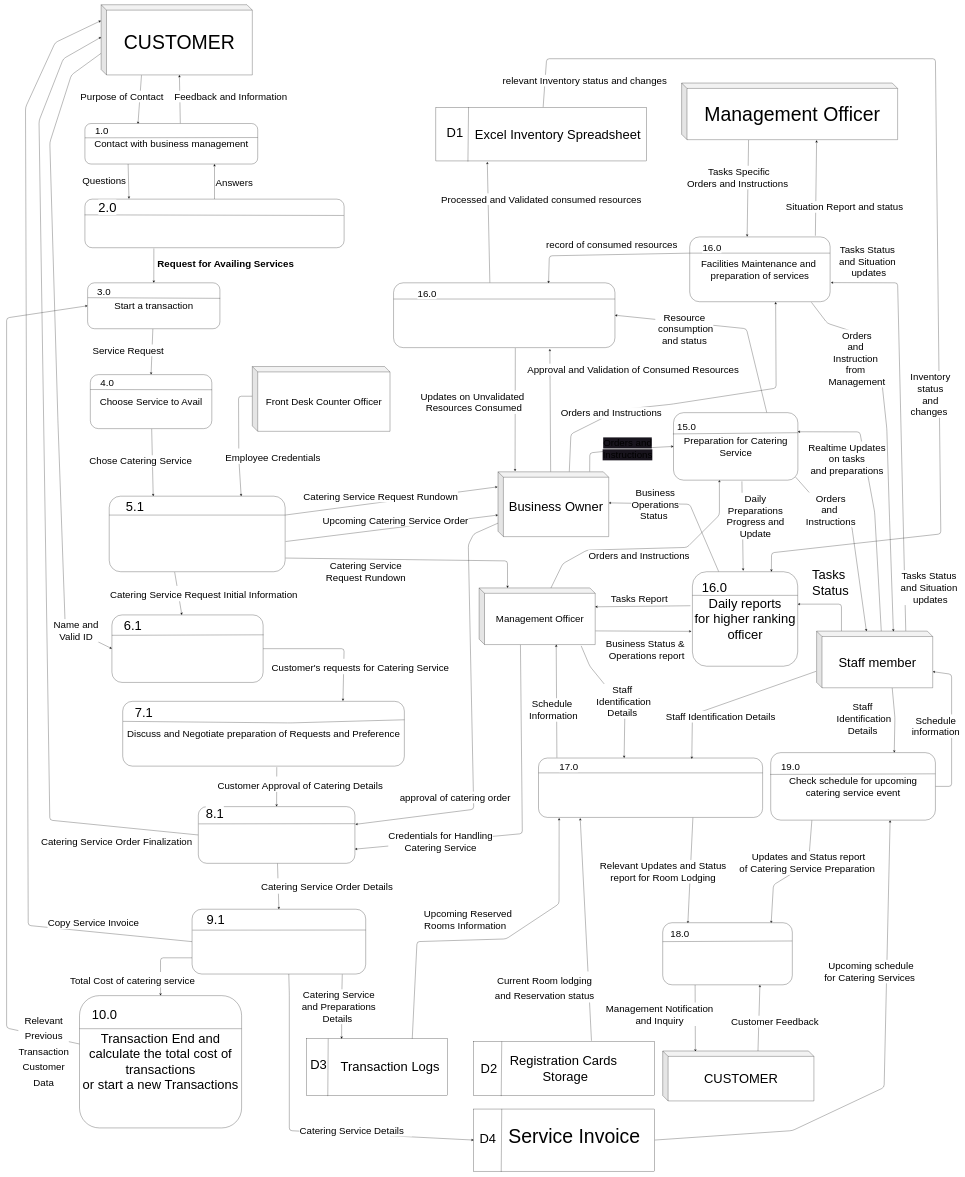
Image size: 965x1177. Some labels were removed from this diagram. Each missing label, with the centre of its shape:
Check schedule for room status changes: (x=650, y=787)
Contact customers for their Cooperation: (x=727, y=953)
Filling up the forms for service invoice: (x=279, y=941)
Inquire for Available Business Services and Information: (x=214, y=223)
Pass Catering Service Handling and Information to high: (x=197, y=534)
Record to Inventory Excel Sheet the costs and resources consumed: (x=504, y=315)
Retrieve Customer Information: (x=187, y=648)
Transaction Details finalization: (x=276, y=834)
